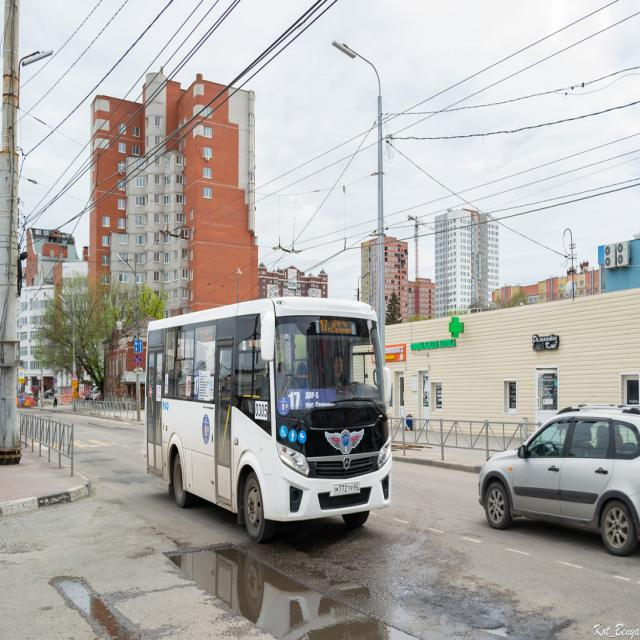number-of-bus: (288, 391, 302, 411), (321, 319, 329, 334), (195, 377, 200, 397)
